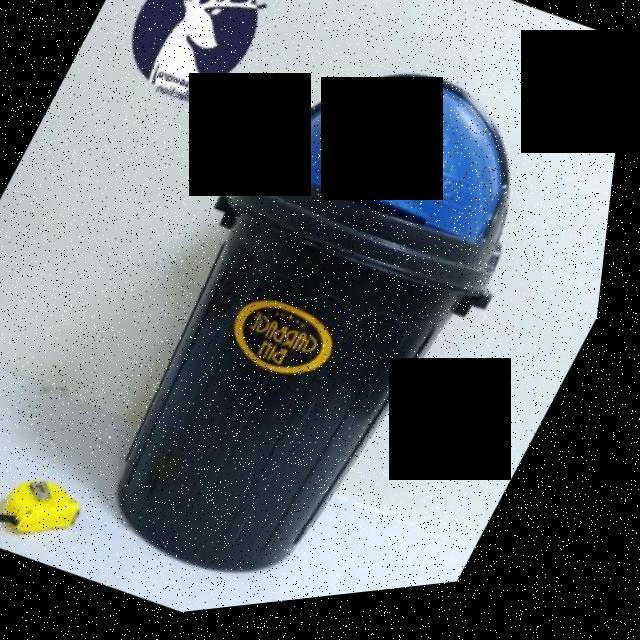bin: (51, 0, 622, 631)
